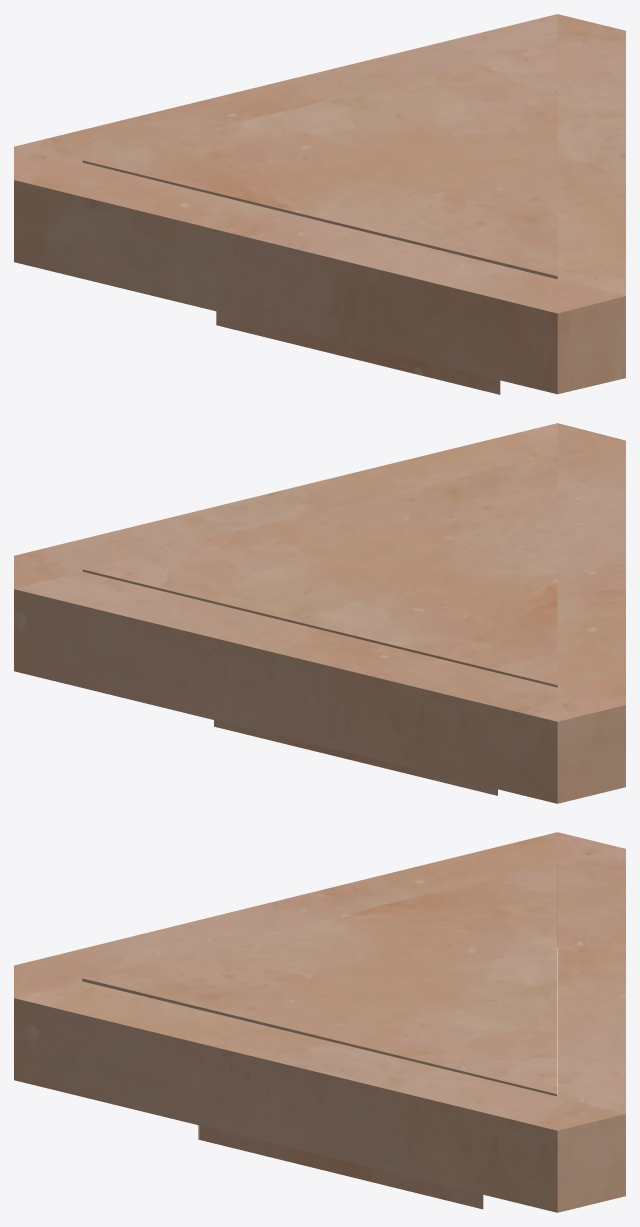
3 views of the same model, one above another, from view 1: azimuth 30°, elevation 25°; view 2: azimuth 150°, elevation 25°; view 3: azimuth 270°, elevation 25° (orthographic).
Visible parts, largest first — view 1: SM_BB_T4_Floor_Triangle_Med_03_LOD0; view 2: SM_BB_T4_Floor_Triangle_Med_03_LOD0; view 3: SM_BB_T4_Floor_Triangle_Med_03_LOD0.
Part boxes in pixels (left/top/right/bottom): SM_BB_T4_Floor_Triangle_Med_03_LOD0: left=14, top=14, right=625, bottom=394; SM_BB_T4_Floor_Triangle_Med_03_LOD0: left=14, top=423, right=625, bottom=803; SM_BB_T4_Floor_Triangle_Med_03_LOD0: left=14, top=832, right=625, bottom=1212.
Bounding box in the file's own units: 1.93 × 0.4866 × 1.67.
Materials: 1 (1 with a texture image).
